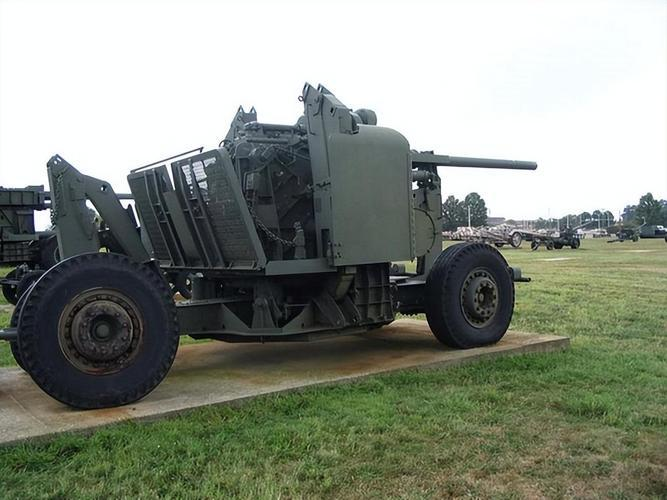MIL_SPG: (0, 83, 537, 408)
